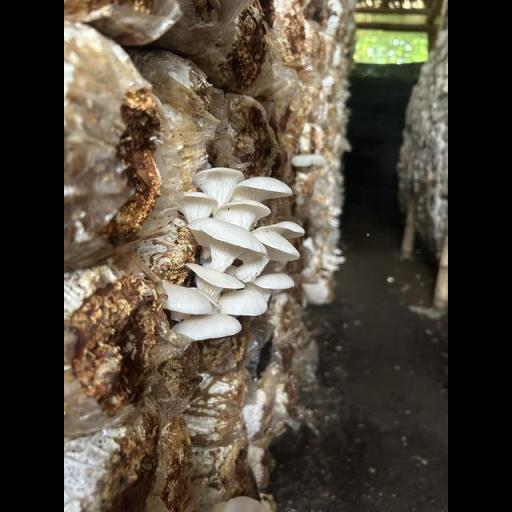White Oyster Mushroom: (160, 155, 319, 355)
